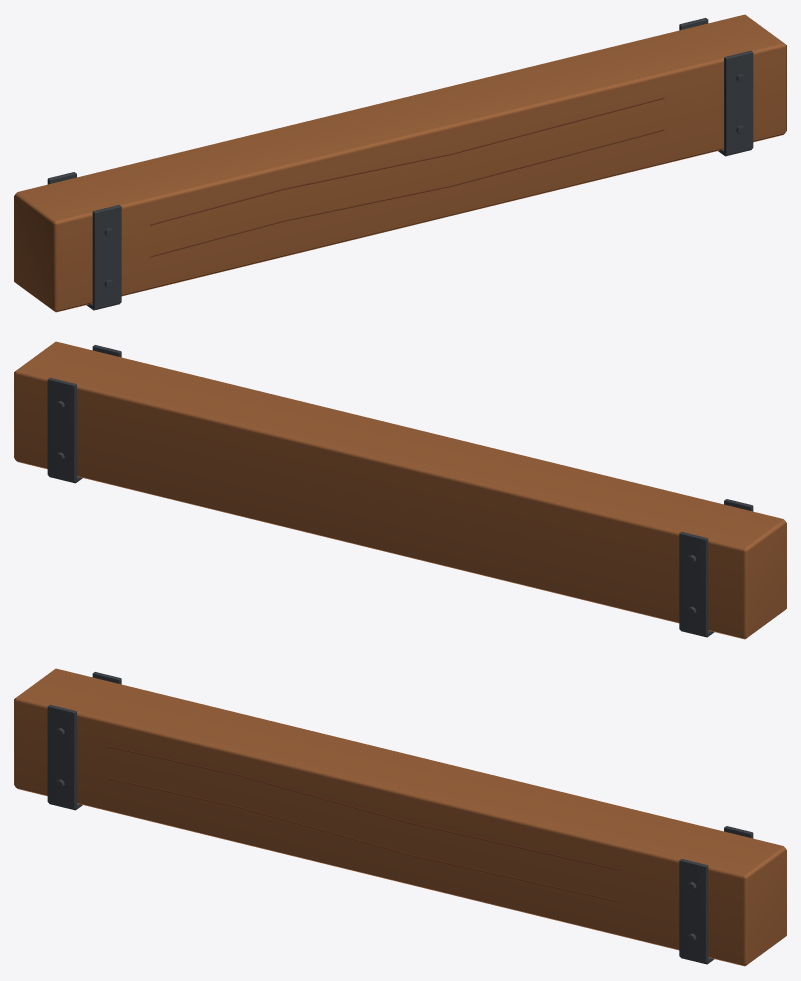
File: wooden_beam.fbx
3 views of the same model, one above another, from view 1: azimuth 30°, elevation 25°; view 2: azimuth 150°, elevation 25°; view 3: azimuth 330°, elevation 25° (orthographic).
Visible parts, largest first — view 1: wooden_beam; view 2: wooden_beam; view 3: wooden_beam.
Boxes of the visible parts, box(x1,y1,x2,y2) form: wooden_beam: box(14, 14, 786, 312); wooden_beam: box(14, 341, 786, 639); wooden_beam: box(14, 668, 786, 966).
Size of the model in its own units: 2 by 0.258 by 0.242.
